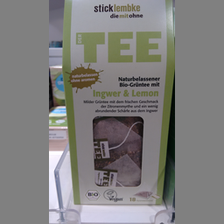tea: (61, 1, 175, 206)
